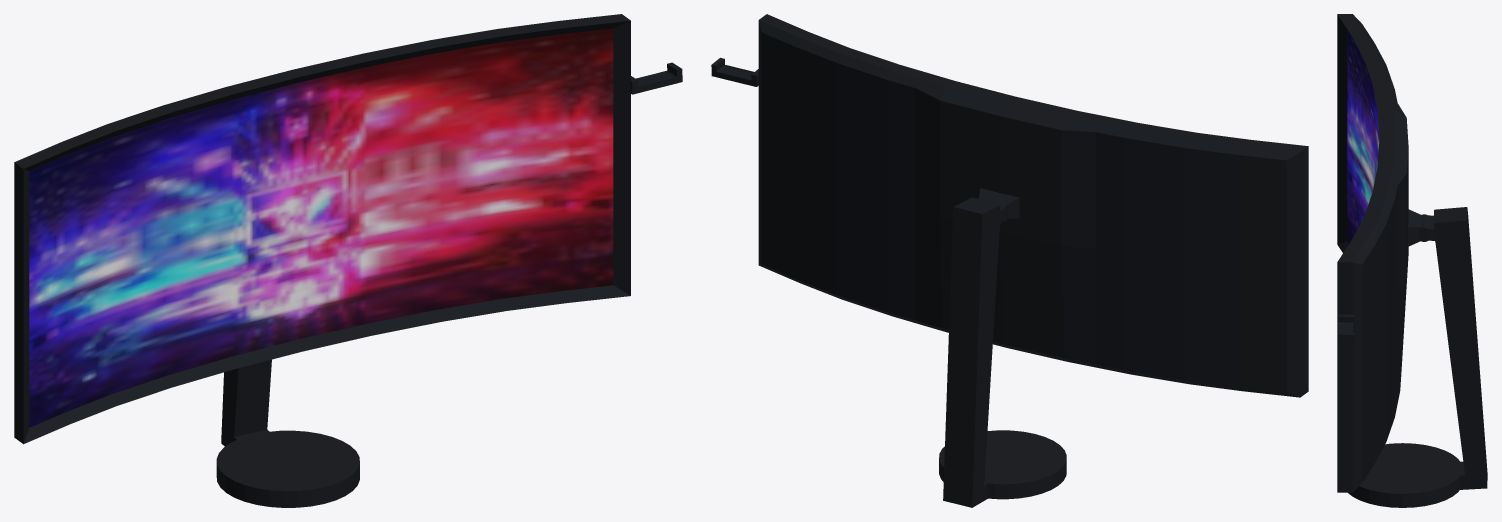
Rendered from monitor.gltf.
The picture shows the model from 3 angles, left to right: view 1: azimuth 30°, elevation 25°; view 2: azimuth 150°, elevation 25°; view 3: azimuth 270°, elevation 25°; orthographic projection. The views are drawn at different scales.
Visible parts, largest first — view 1: monitor; view 2: monitor; view 3: monitor.
Boxes of the visible parts, box(x1,y1,x2,y2) form: monitor: box(14, 14, 682, 507); monitor: box(711, 14, 1308, 507); monitor: box(1337, 14, 1487, 507).
Bounding box in the file's own units: 4.84 × 2.9 × 1.14.
Materials: 1 (1 with a texture image).
